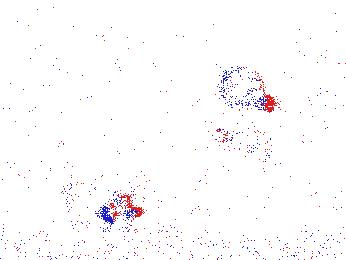flame jellyfish: (58, 173, 144, 224), (215, 124, 286, 172), (216, 63, 273, 112)
